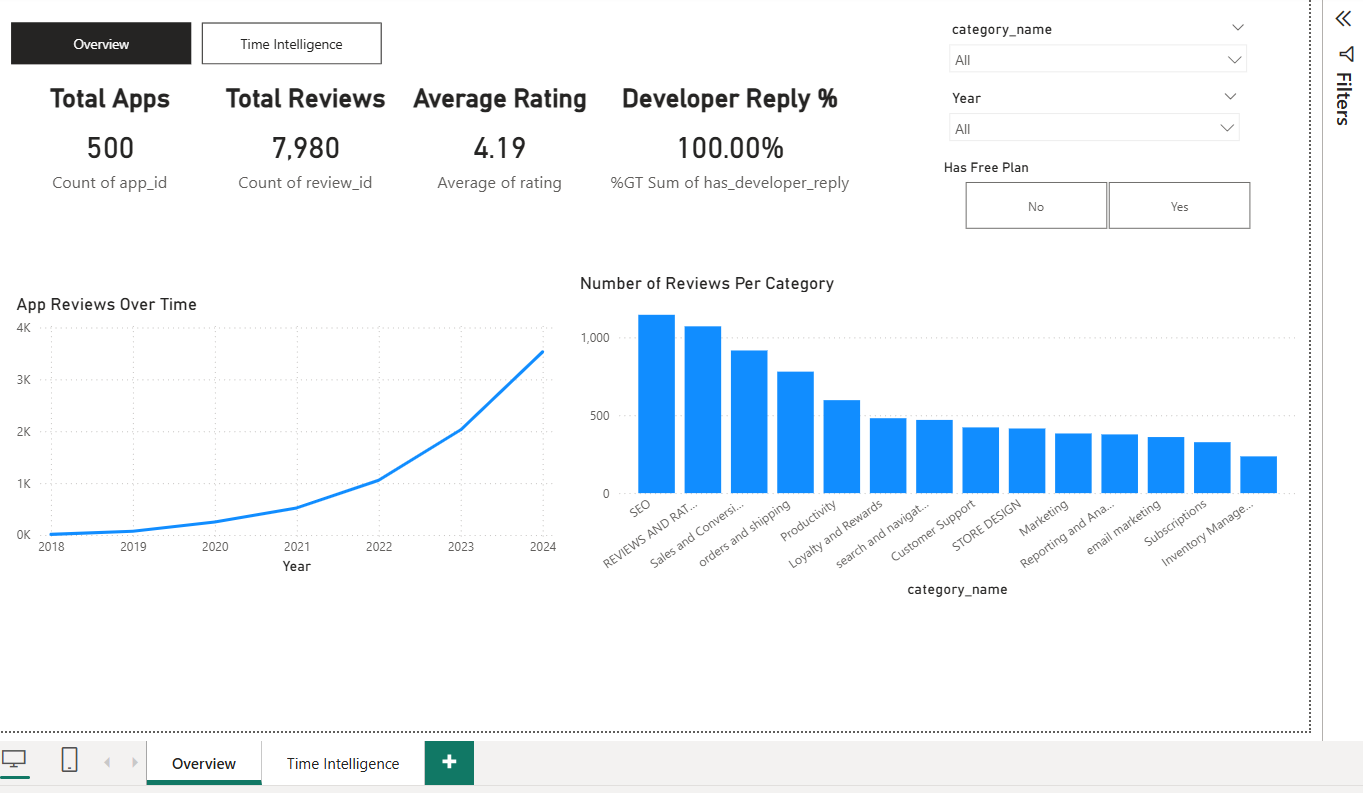

Layout of this report page (visuals, bound fields, positions):
{"tool":"powerbi","page":{"name":"Overview","canvas":[1280,720],"ordinal":0},"visuals":[{"type":"card","title":"Total Apps","fields":{"Values":["Count(apps.app_id)"]},"box":[0,86.8,215.2,114.9],"z":0},{"type":"card","title":"Total Reviews","fields":{"Values":["Count(reviews.review_id)"]},"box":[199.3,86.8,199.3,114.9],"z":1000},{"type":"card","title":"Average Rating","fields":{"Values":["Avg(reviews.rating)"]},"box":[380.3,86.8,217.7,114.9],"z":2000},{"type":"card","title":"Developer Reply %","fields":{"Values":["Divide(Sum(reviews.has_developer_reply), ScopedEval(Sum(reviews.has_developer_reply), []))"]},"box":[584.5,86.8,259.2,114.9],"z":3000},{"type":"slicer","fields":{"Values":["apps.category_name"]},"box":[918.3,19.6,311.8,56.3],"z":4000},{"type":"slicer","fields":{"Values":["Dim_Date.Year"]},"box":[918.3,86.8,304.5,74.6],"z":5000},{"type":"slicer","title":"Has Free Plan","fields":{"Values":["apps.has_free_plan"]},"box":[918.3,161.4,328.9,74.6],"z":6000},{"type":"lineChart","title":"App Reviews Over Time","fields":{"Category":["Dim_Date.Year"],"Y":["Count(reviews.review_id)"]},"box":[11,292.3,538,280],"z":7000},{"type":"clusteredColumnChart","title":"Number of Reviews Per Category","fields":{"Y":["Count(reviews.review_id)"],"Category":["apps.category_name"]},"box":[562.5,271.5,710.5,322.8],"z":7001},{"type":"pageNavigator","box":[11,26.9,363.2,41.6],"z":7002}]}

Visuals, with their boxes on the page's 1280x720 design canvas (x1, y1, x2, y2). These are canvas units, not pixel positions in the 1363x793 screenshot, which may show the page scaled, cropped or inside an application window:
"Total Apps" card: bbox(0, 87, 215, 202)
"Total Reviews" card: bbox(199, 87, 399, 202)
"Average Rating" card: bbox(380, 87, 598, 202)
"Developer Reply %" card: bbox(584, 87, 844, 202)
slicer - apps.category_name: bbox(918, 20, 1230, 76)
slicer - Dim_Date.Year: bbox(918, 87, 1223, 161)
"Has Free Plan" slicer: bbox(918, 161, 1247, 236)
"App Reviews Over Time" lineChart: bbox(11, 292, 549, 572)
"Number of Reviews Per Category" clusteredColumnChart: bbox(562, 272, 1273, 594)
pageNavigator: bbox(11, 27, 374, 68)
